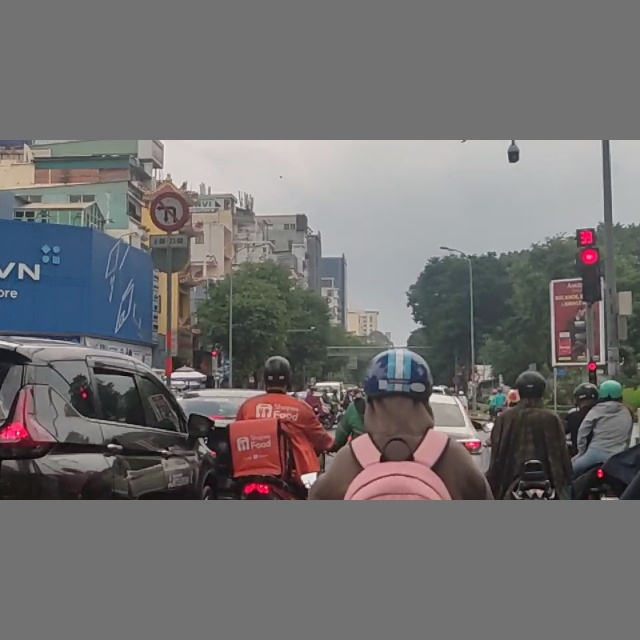P.124c: (148, 185, 191, 233)
